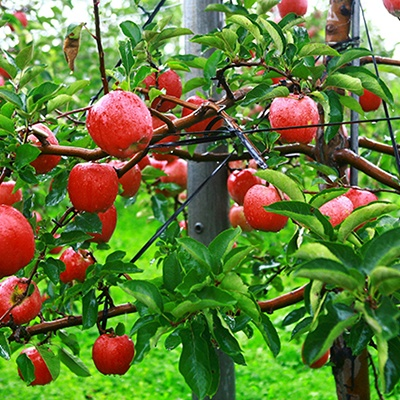apple: (90, 90, 155, 163), (269, 89, 321, 147), (69, 160, 120, 217), (9, 125, 64, 175), (1, 204, 36, 278), (246, 184, 295, 229), (1, 278, 39, 334), (90, 331, 135, 378), (54, 247, 99, 293), (18, 342, 61, 388), (311, 193, 358, 233), (140, 67, 182, 111), (99, 160, 143, 200), (338, 187, 375, 229), (225, 169, 258, 202), (160, 160, 188, 185), (359, 84, 382, 114), (281, 1, 308, 22), (5, 12, 27, 34), (1, 183, 23, 204), (384, 1, 399, 20)
